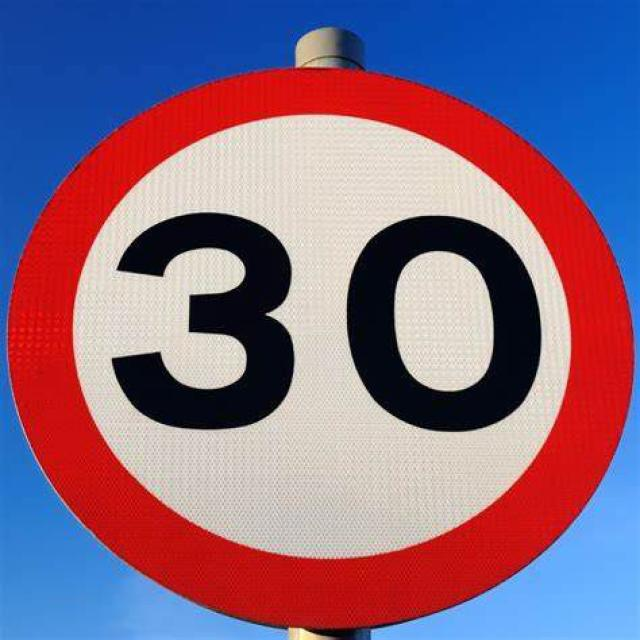speedlimit_30: (16, 66, 633, 640)
